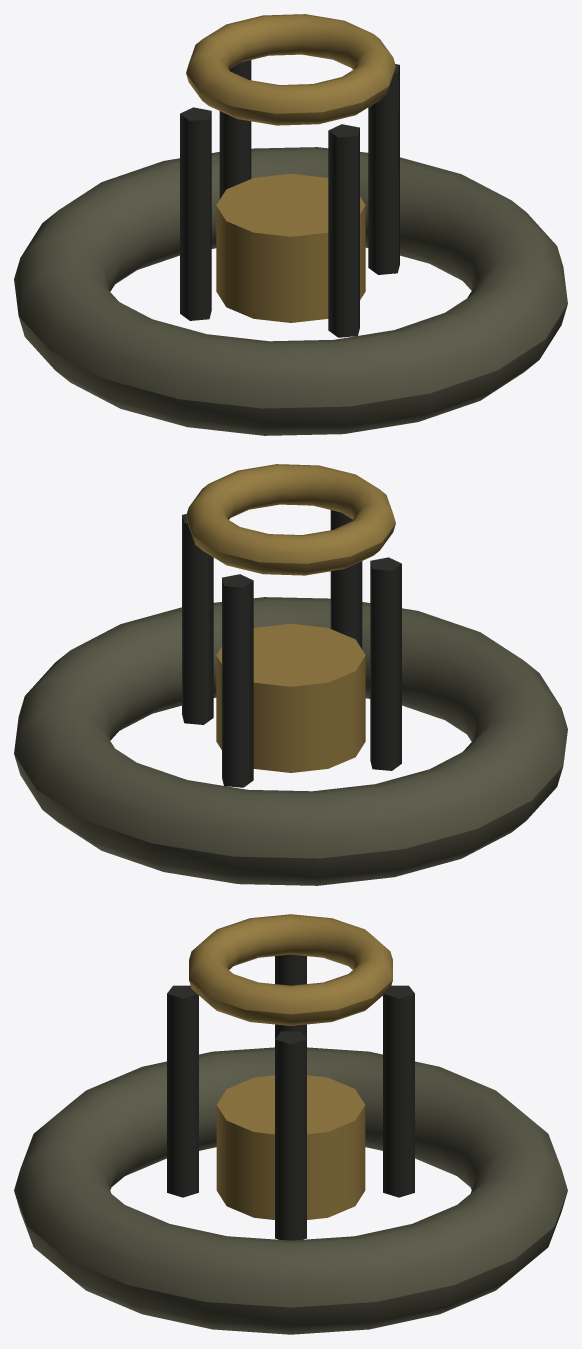
File: safety_bit.obj
3 renders of one model, top to bottom at view 1: azimuth 30°, elevation 25°; view 2: azimuth 150°, elevation 25°; view 3: azimuth 270°, elevation 25°, orthographic.
Parts seen in each view (by area): view 1: safety_bit; view 2: safety_bit; view 3: safety_bit.
Boxes of the visible parts, bbox=[...] form: safety_bit: bbox=[14, 14, 567, 435]; safety_bit: bbox=[14, 464, 567, 885]; safety_bit: bbox=[14, 914, 567, 1334].
Bounding box in the file's own units: 1.64 × 0.92 × 1.64.
